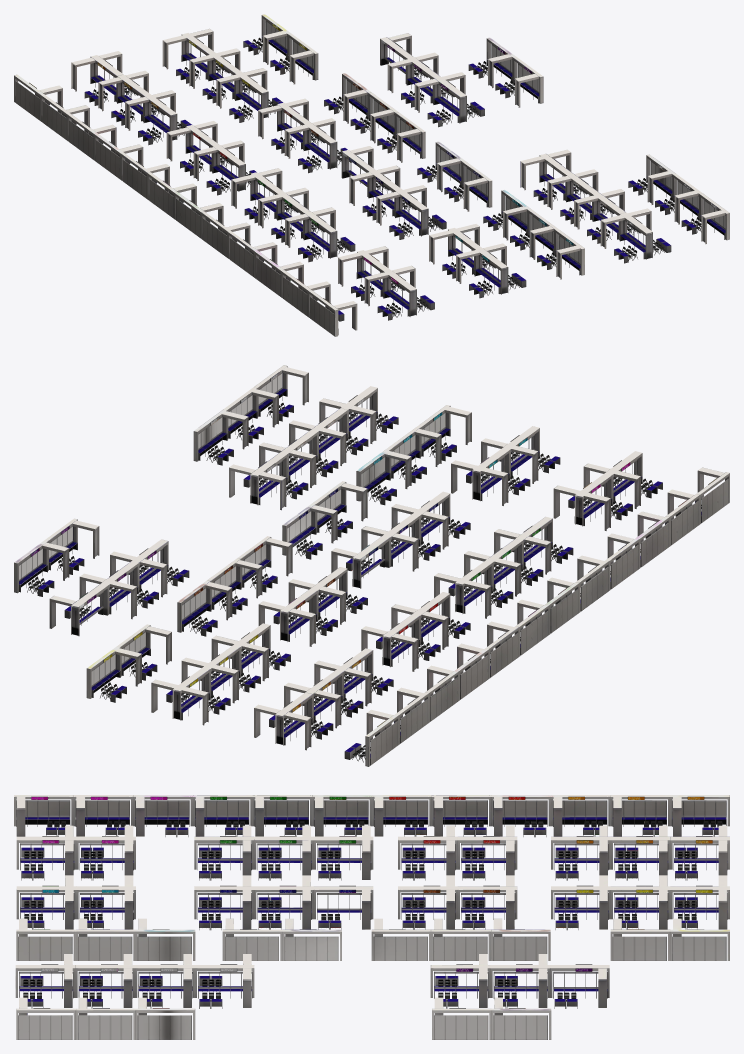
The model's file is Kiosk_Booths.glb.
The picture shows the model from 3 angles, top to bottom: view 1: azimuth 30°, elevation 25°; view 2: azimuth 150°, elevation 25°; view 3: azimuth 270°, elevation 25°; orthographic projection. The views are drawn at different scales.
Visible parts, largest first — view 1: Booth01SingleB.038; view 2: Booth01SingleB.038; view 3: Booth01SingleB.038.
Boxes of the visible parts, left/top/right/bottom form: Booth01SingleB.038: left=14, top=14, right=729, bottom=336; Booth01SingleB.038: left=14, top=365, right=729, bottom=766; Booth01SingleB.038: left=14, top=795, right=729, bottom=1039.
Bounding box in the file's own units: 46.92 × 3.1 × 65.94.
Materials: 1 (1 with a texture image).
